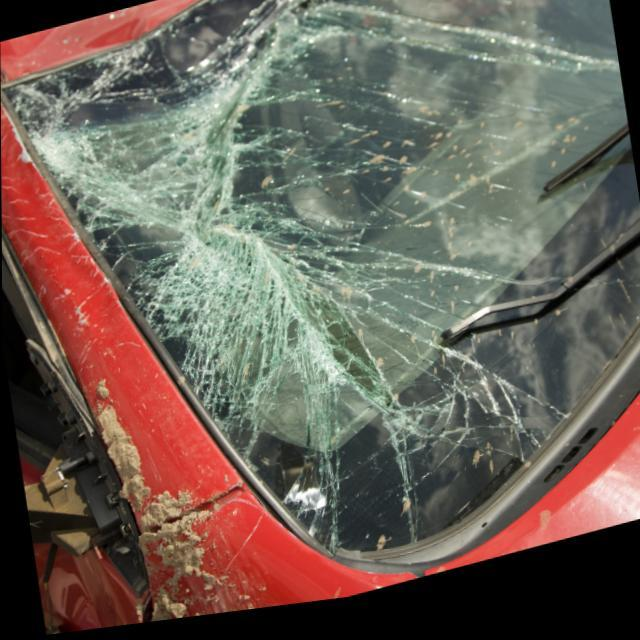glass shatter: (2, 0, 640, 564)
